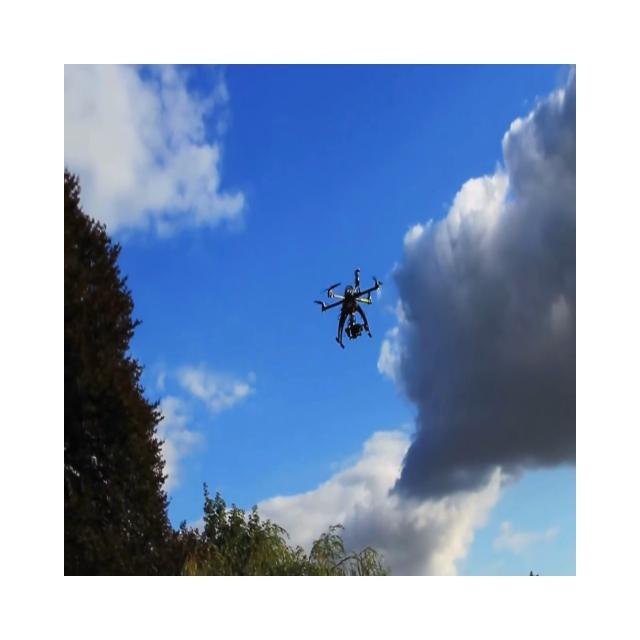drone: (313, 267, 383, 349)
